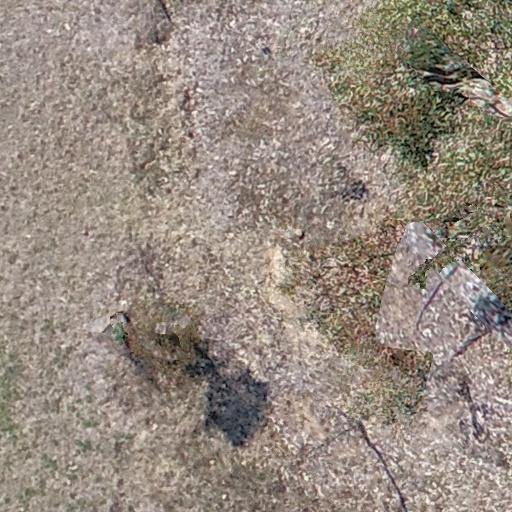stone: (316, 299, 333, 314), (325, 218, 335, 230)
